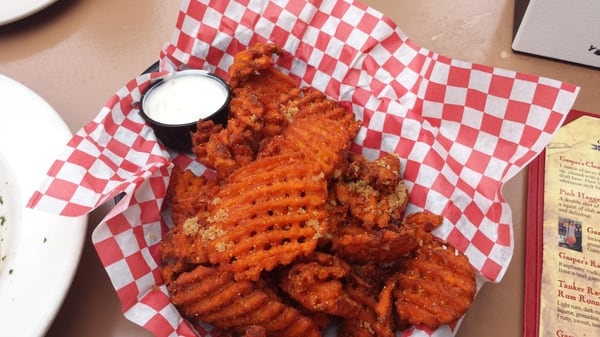sushi: (139, 70, 230, 158)
